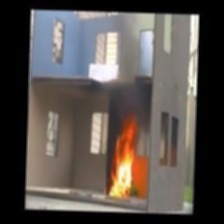fire: (106, 120, 144, 196)
